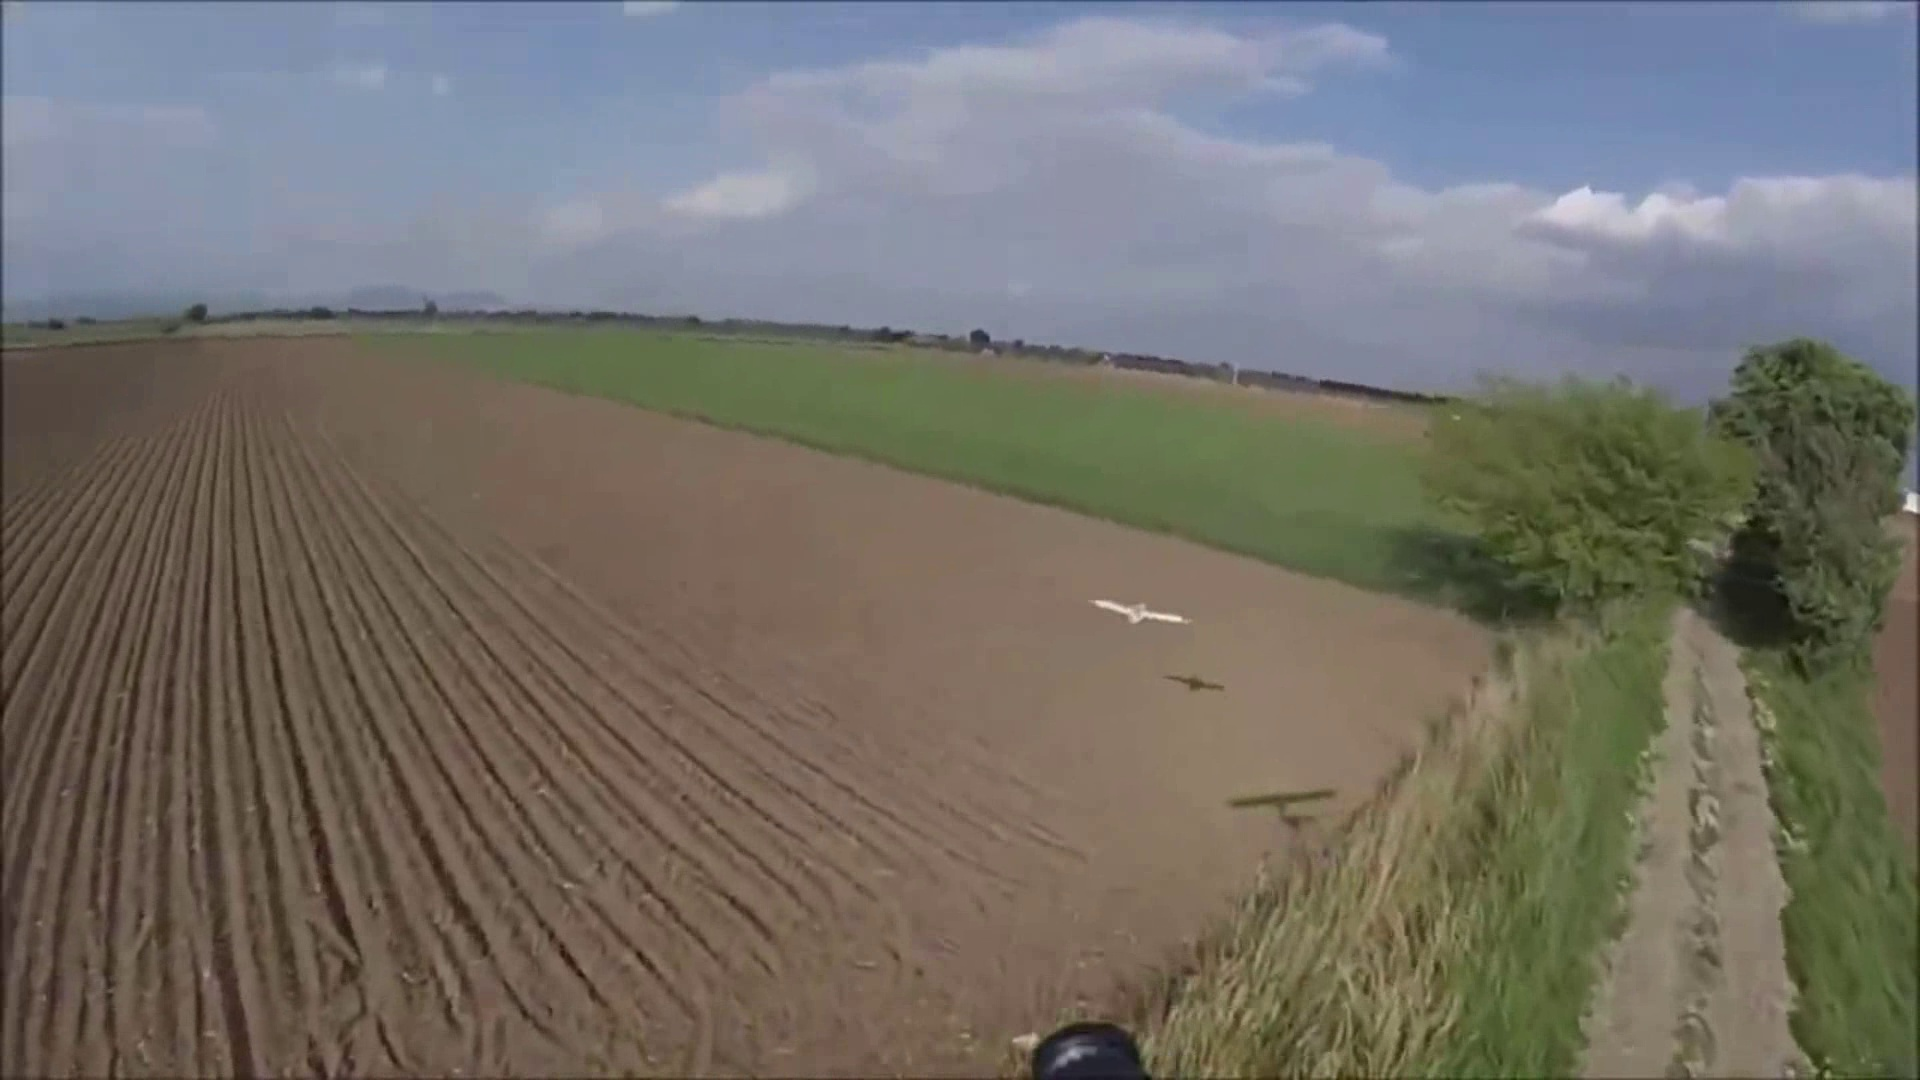airplane: (1089, 597, 1189, 629)
